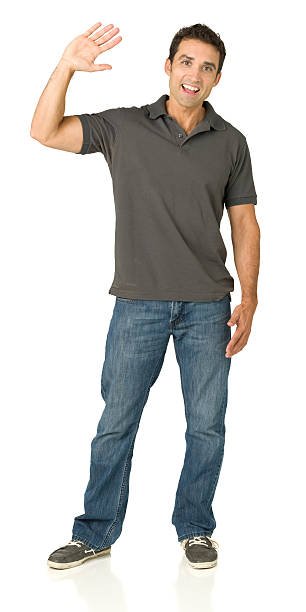open_hand: (57, 12, 130, 84)
